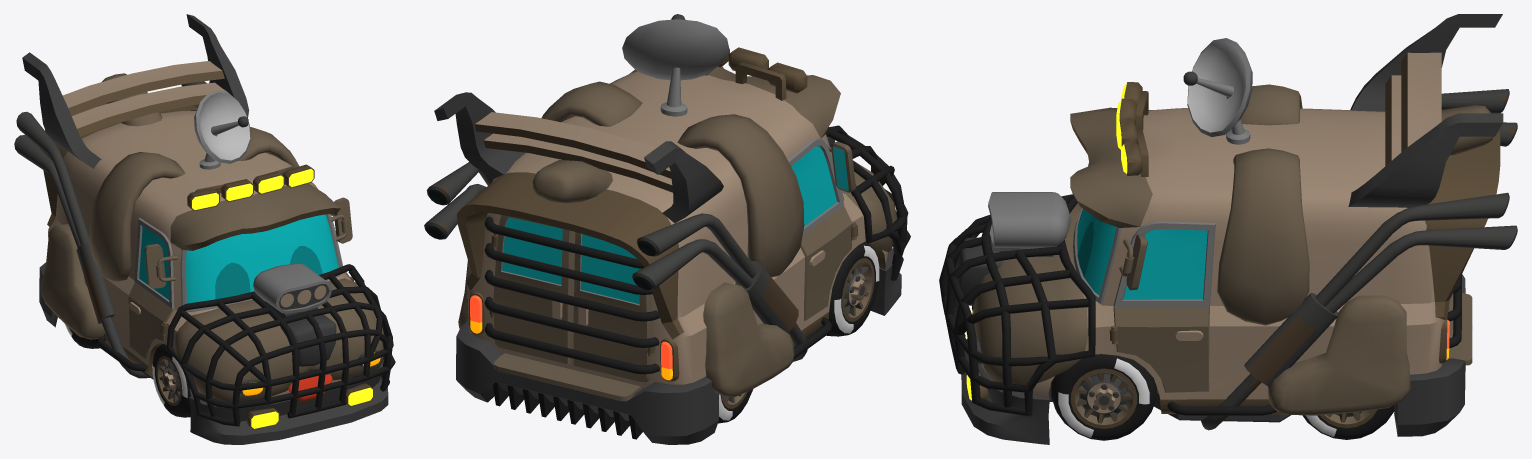
File: SVehicle002.fbx
3 renders of one model, left to right at view 1: azimuth 30°, elevation 25°; view 2: azimuth 150°, elevation 25°; view 3: azimuth 270°, elevation 25°, orthographic. The views are drawn at different scales.
Parts seen in each view (by area): view 1: SVehicle002, SV002_Parts, SV002_FR; view 2: SVehicle002, SV002_Parts, SV002_FR, SV002_BR; view 3: SVehicle002, SV002_FL, SV002_Parts, SV002_BL.
Boxes of the visible parts, bbox=[...] form: SVehicle002: bbox=[14, 14, 395, 444]; SV002_Parts: bbox=[194, 90, 250, 169]; SV002_FR: bbox=[152, 344, 190, 417]; SVehicle002: bbox=[424, 47, 910, 444]; SV002_Parts: bbox=[622, 14, 729, 116]; SV002_FR: bbox=[826, 241, 879, 336]; SV002_BR: bbox=[718, 389, 753, 423]; SVehicle002: bbox=[939, 14, 1517, 444]; SV002_FL: bbox=[1051, 354, 1156, 440]; SV002_Parts: bbox=[1183, 38, 1252, 144]; SV002_BL: bbox=[1302, 405, 1394, 439].
Bounding box in the file's own units: 282 × 320 × 488.
1 material, 1 textured.
